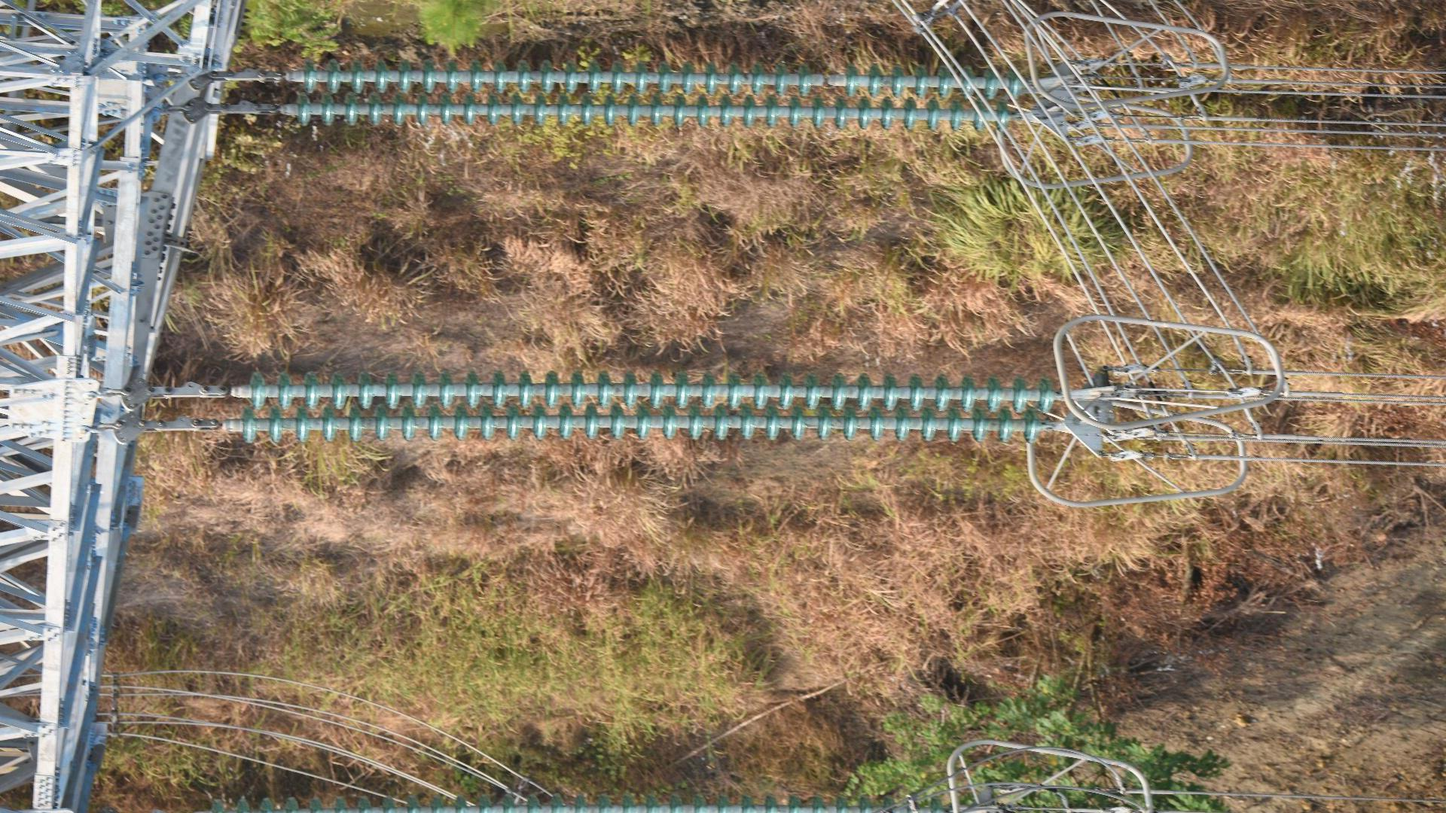insulator: (234, 365, 1057, 457), (293, 52, 1023, 137)
insulator_stringdrop: (793, 59, 862, 104)
